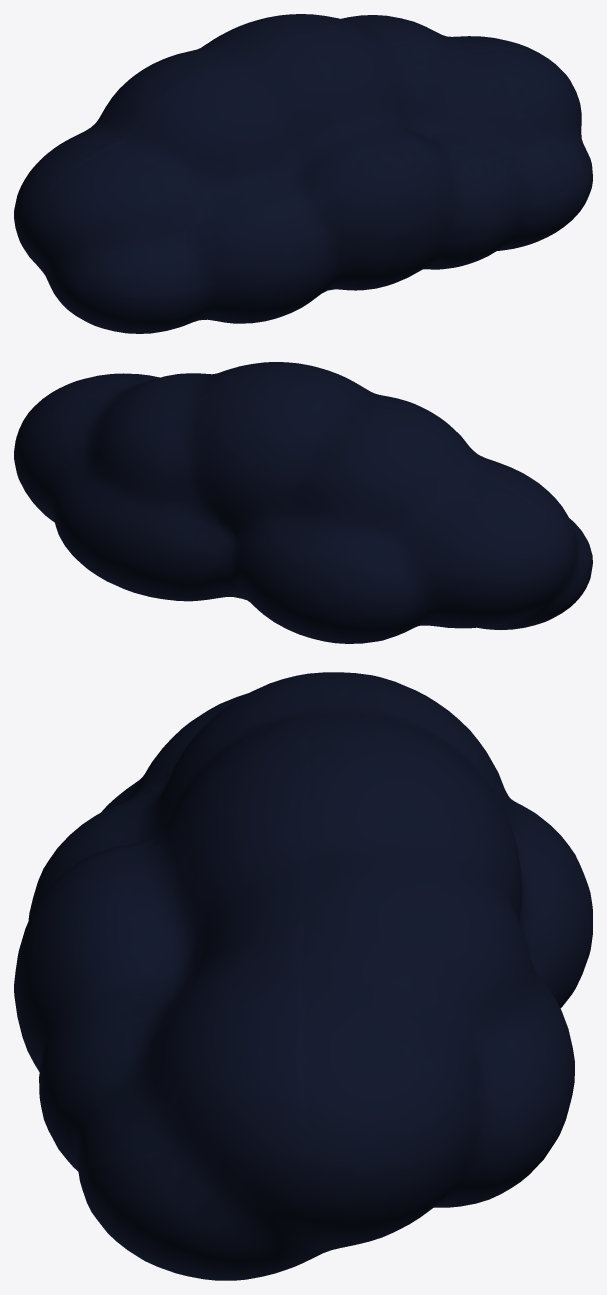
The model's file is SM_thunderstorm_cloud_LOD1.fbx.
3 renders of one model, top to bottom at view 1: azimuth 30°, elevation 25°; view 2: azimuth 150°, elevation 25°; view 3: azimuth 270°, elevation 25°, orthographic. The views are drawn at different scales.
Parts seen in each view (by area): view 1: SM_thunderstorm_cloud_LOD1; view 2: SM_thunderstorm_cloud_LOD1; view 3: SM_thunderstorm_cloud_LOD1.
Boxes of the visible parts, bbox=[...] form: SM_thunderstorm_cloud_LOD1: bbox=[14, 14, 592, 333]; SM_thunderstorm_cloud_LOD1: bbox=[14, 362, 592, 643]; SM_thunderstorm_cloud_LOD1: bbox=[14, 672, 592, 1280].
Bounding box in the file's own units: 2.21 × 1.22 × 0.8842.
